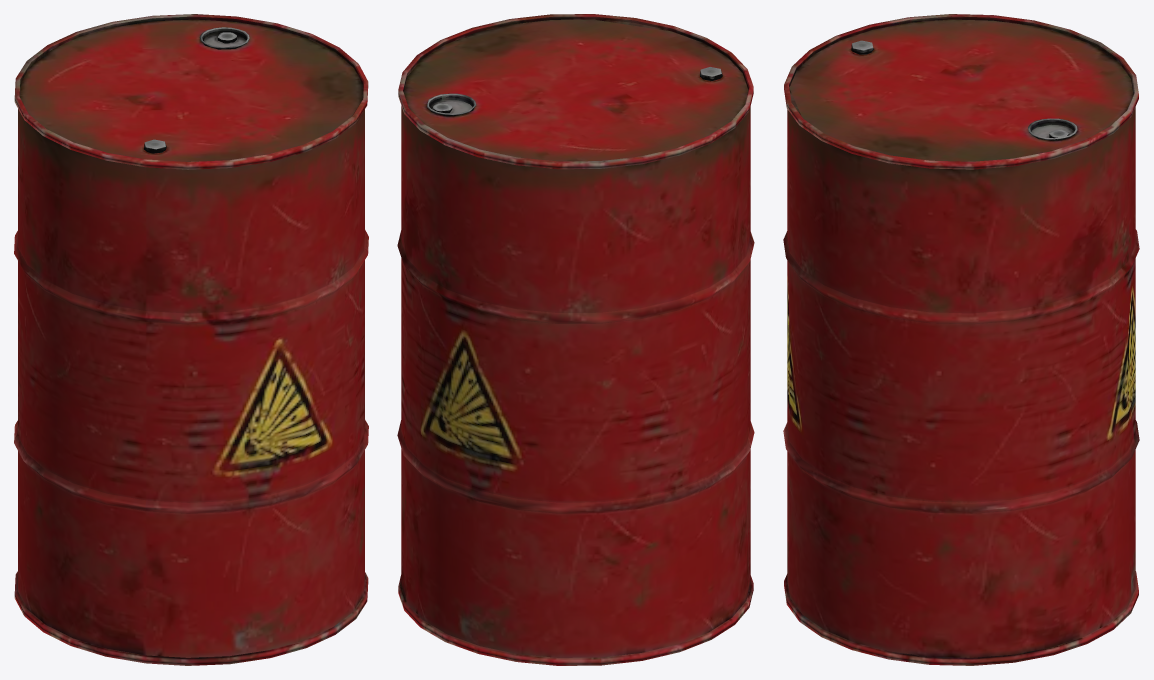
The model's file is Barrel_01.glb.
The picture shows the model from 3 angles, left to right: view 1: azimuth 30°, elevation 25°; view 2: azimuth 150°, elevation 25°; view 3: azimuth 270°, elevation 25°; orthographic projection.
Visible parts, largest first — view 1: Barrel_01; view 2: Barrel_01; view 3: Barrel_01.
Boxes of the visible parts, box(x1,y1,x2,y2) form: Barrel_01: box(14, 14, 368, 665); Barrel_01: box(397, 14, 754, 665); Barrel_01: box(783, 14, 1139, 665).
Bounding box in the file's own units: 0.5628 × 0.8789 × 0.5628.
1 material, 1 textured.
